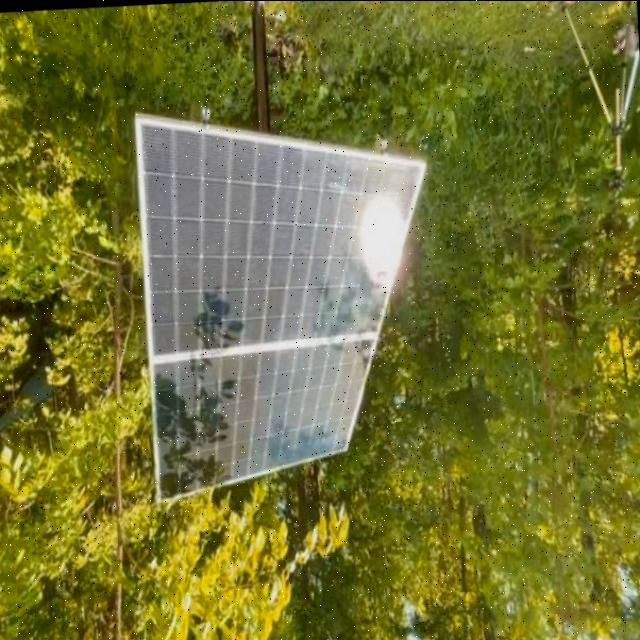Normal Solar Panel: (142, 98, 445, 496)
